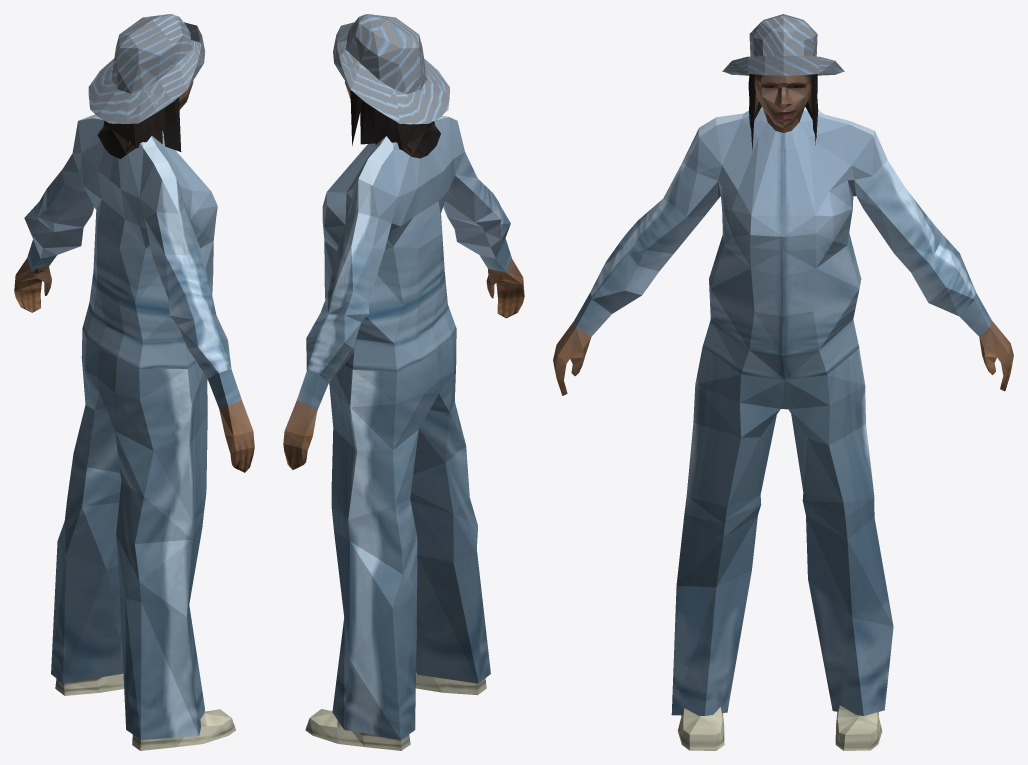
File: hfyst.obj
3 views of the same model, side by side, from view 1: azimuth 30°, elevation 25°; view 2: azimuth 150°, elevation 25°; view 3: azimuth 270°, elevation 25° (orthographic). The views are drawn at different scales.
Parts seen in each view (by area): view 1: _Pelvis; view 2: _Pelvis; view 3: _Pelvis.
Part boxes in pixels (bbox=[...]): _Pelvis: bbox=[14, 14, 254, 750]; _Pelvis: bbox=[283, 14, 524, 750]; _Pelvis: bbox=[553, 14, 1013, 750].
Size of the model in its own units: 0.3135 by 1.82 by 1.06.
Materials: 1 (1 with a texture image).
